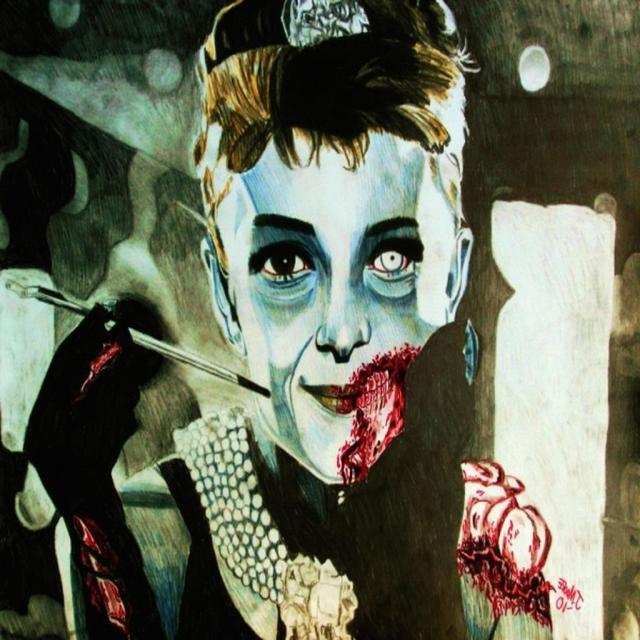smoking: (0, 71, 488, 513)
